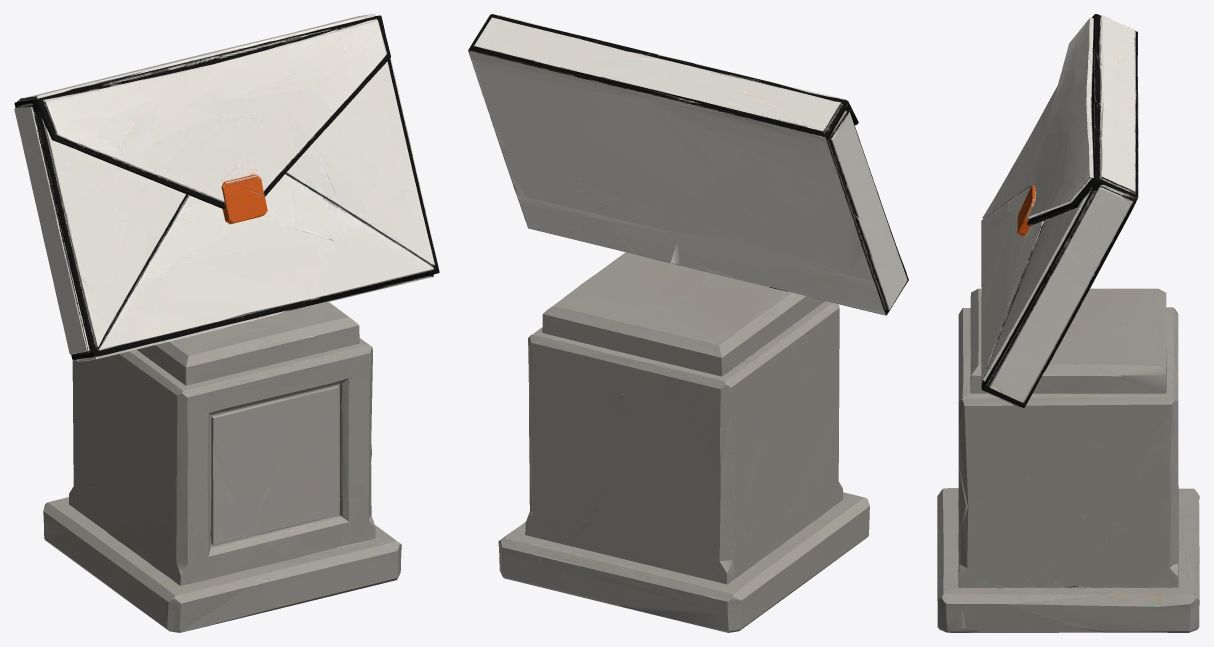
The model's file is mail.glb.
3 renders of one model, left to right at view 1: azimuth 30°, elevation 25°; view 2: azimuth 150°, elevation 25°; view 3: azimuth 270°, elevation 25°, orthographic. The views are drawn at different scales.
Bounding box in the file's own units: 1.43 × 1.9 × 0.9385.
1 material, 1 textured.
